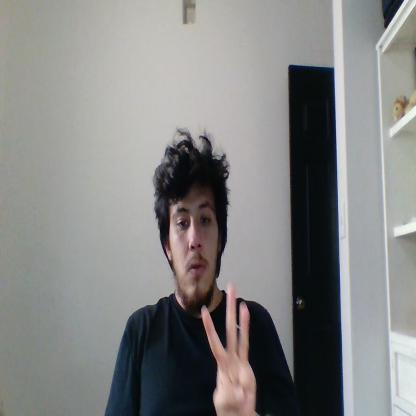W: (201, 282, 257, 415)
